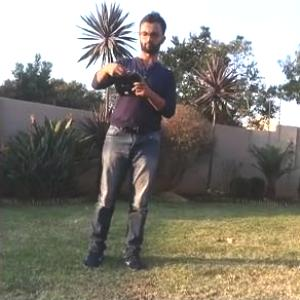follow: (78, 2, 182, 275)
